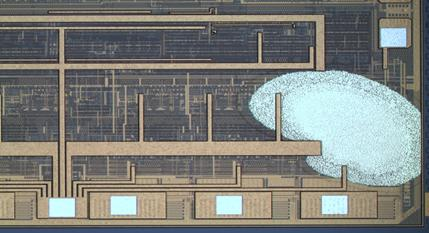BLOCK ETCH: (235, 57, 429, 196)
